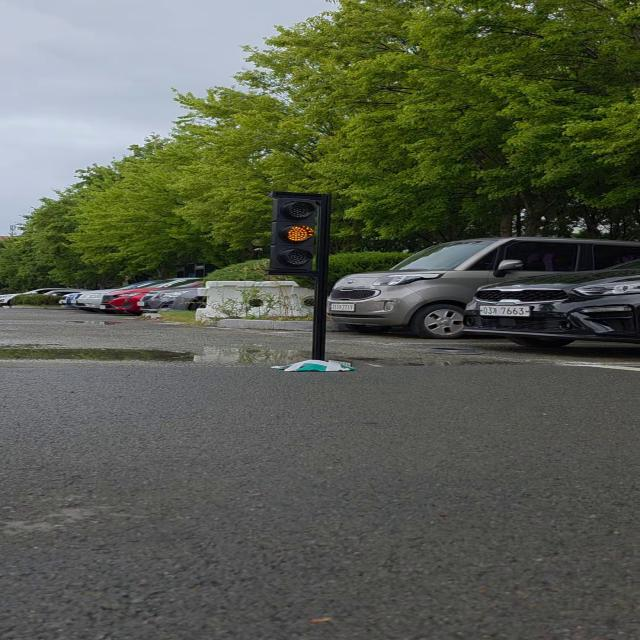yellow: (262, 188, 338, 278)
